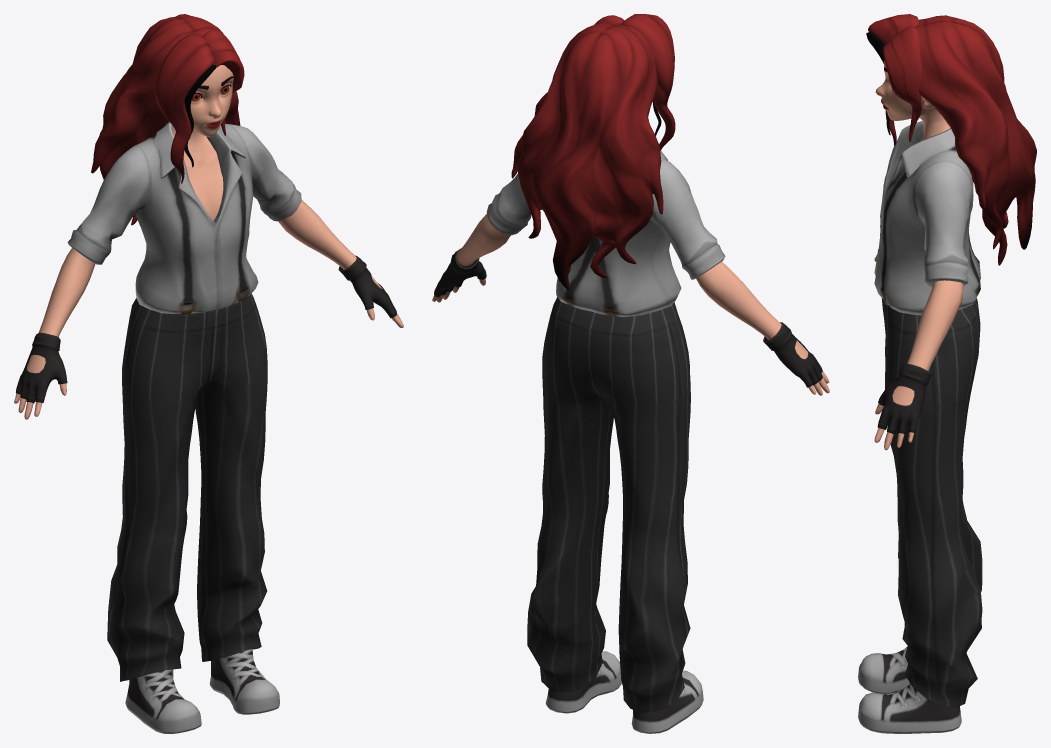
File: StaffAmanda_Mesh.obj
3 renders of one model, left to right at view 1: azimuth 30°, elevation 25°; view 2: azimuth 150°, elevation 25°; view 3: azimuth 270°, elevation 25°, orthographic. The views are drawn at different scales.
Visible parts, largest first — view 1: StaffAmanda_Mesh_0; view 2: StaffAmanda_Mesh_0; view 3: StaffAmanda_Mesh_0.
Boxes of the visible parts, bbox=[...] form: StaffAmanda_Mesh_0: bbox=[14, 14, 403, 733]; StaffAmanda_Mesh_0: bbox=[432, 14, 829, 733]; StaffAmanda_Mesh_0: bbox=[858, 14, 1036, 733].
Size of the model in its own units: 1.06 by 1.8 by 0.4266.
Materials: 1 (1 with a texture image).
